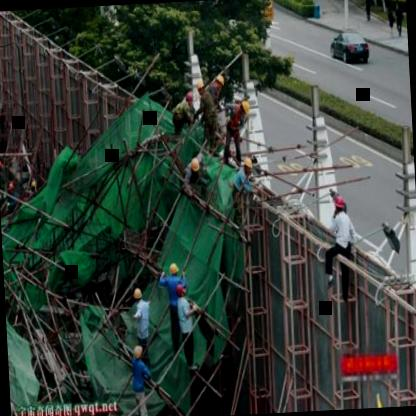helmet: (238, 152, 256, 178), (233, 96, 252, 119), (129, 280, 147, 304), (130, 340, 146, 366), (212, 70, 228, 96), (192, 77, 210, 100), (330, 190, 347, 214), (186, 155, 203, 179), (166, 260, 182, 282), (173, 280, 189, 296), (182, 90, 194, 108)
